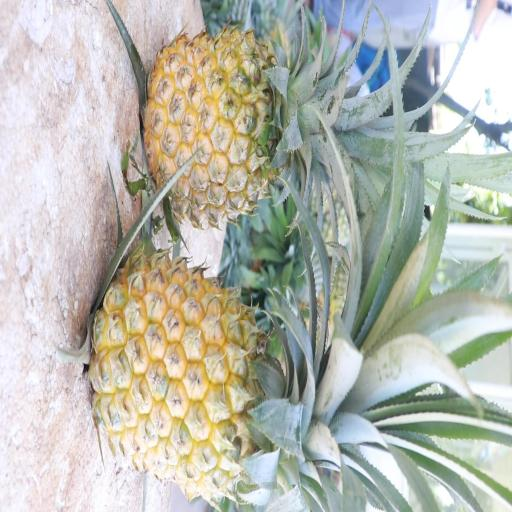Pineapple - v8 v1: (84, 245, 386, 502), (139, 19, 358, 233), (216, 154, 226, 158), (223, 112, 232, 112)
